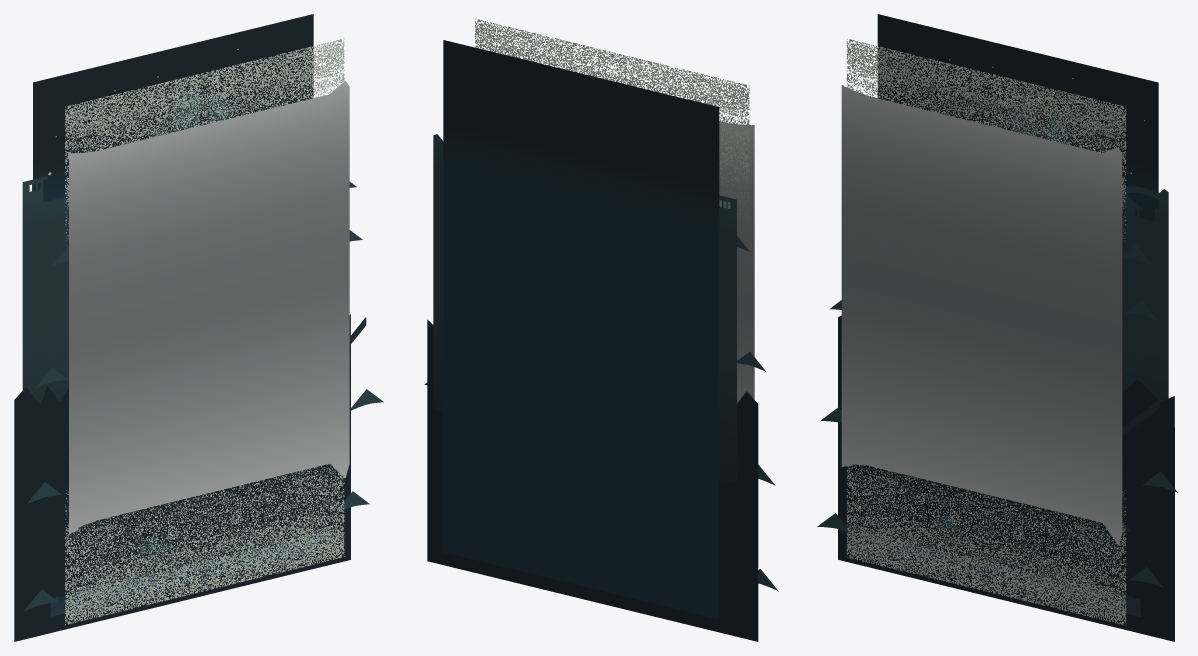
File: chapter4Back.fbx
3 renders of one model, left to right at view 1: azimuth 30°, elevation 25°; view 2: azimuth 150°, elevation 25°; view 3: azimuth 330°, elevation 25°, orthographic.
Visible parts, largest first — view 1: Plane84, Plane116, Plane89, Plane83, Plane115, Plane117; view 2: Plane83, Plane116, Plane89, Plane115, Plane84; view 3: Plane84, Plane116, Plane89, Plane83, Plane115, Plane117.
Part boxes in pixels (<box>): Plane84: <box>69,81,349,534</box>; Plane116: <box>14,314,350,641</box>; Plane89: <box>65,38,344,624</box>; Plane83: <box>33,14,313,201</box>; Plane115: <box>22,89,231,404</box>; Plane117: <box>50,529,331,616</box>; Plane83: <box>443,40,719,619</box>; Plane116: <box>427,319,758,641</box>; Plane89: <box>475,18,749,217</box>; Plane115: <box>433,134,736,483</box>; Plane84: <box>719,121,754,403</box>; Plane84: <box>841,85,1122,544</box>; Plane116: <box>838,315,1174,641</box>; Plane89: <box>846,39,1126,625</box>; Plane83: <box>877,14,1158,221</box>; Plane115: <box>989,94,1168,401</box>; Plane117: <box>859,531,1140,616</box>.
Size of the model in its own units: 0.7449 by 1.04 by 0.125.
3 materials, 3 textured.
